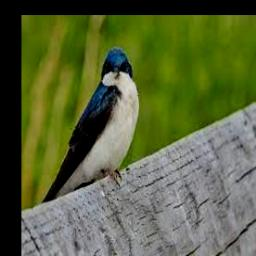Swallow: (42, 48, 139, 203)
